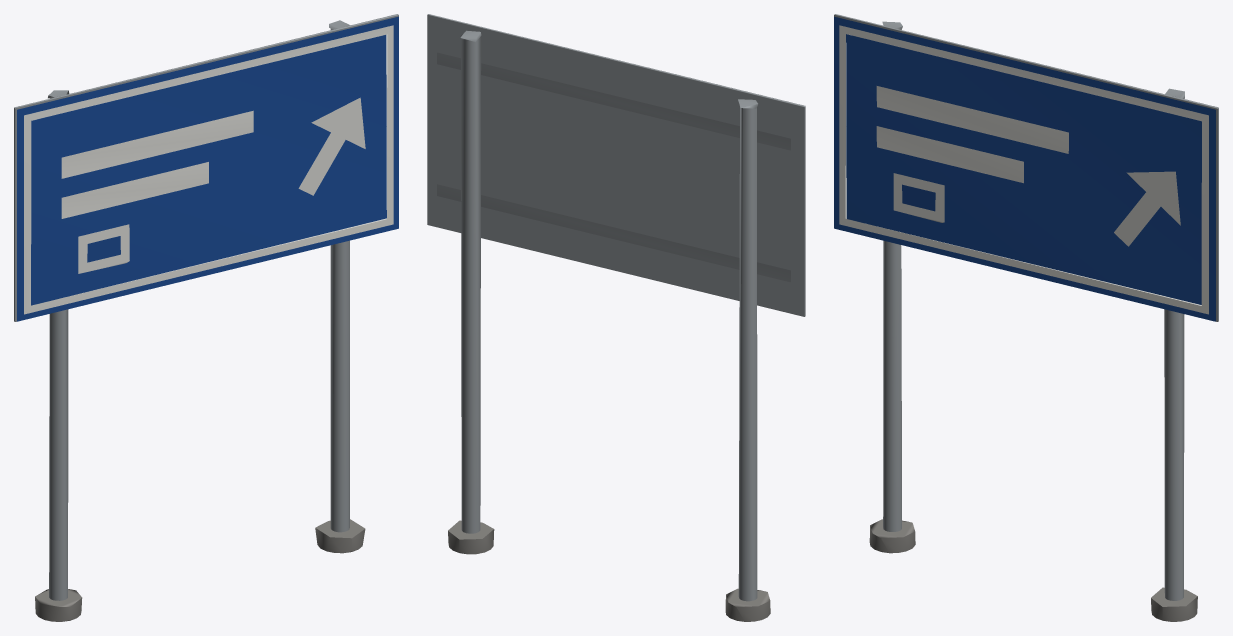
Rendered from motorwaySign.far.glb.
The picture shows the model from 3 angles, left to right: view 1: azimuth 30°, elevation 25°; view 2: azimuth 150°, elevation 25°; view 3: azimuth 330°, elevation 25°; orthographic projection.
Visible parts, largest first — view 1: motorwaySign_far; view 2: motorwaySign_far; view 3: motorwaySign_far.
Boxes of the visible parts, x1,y1,x2,y2 form: motorwaySign_far: [14, 14, 398, 621]; motorwaySign_far: [427, 14, 805, 621]; motorwaySign_far: [834, 14, 1218, 621].
Bounding box in the file's own units: 3 × 3.9 × 0.32.
